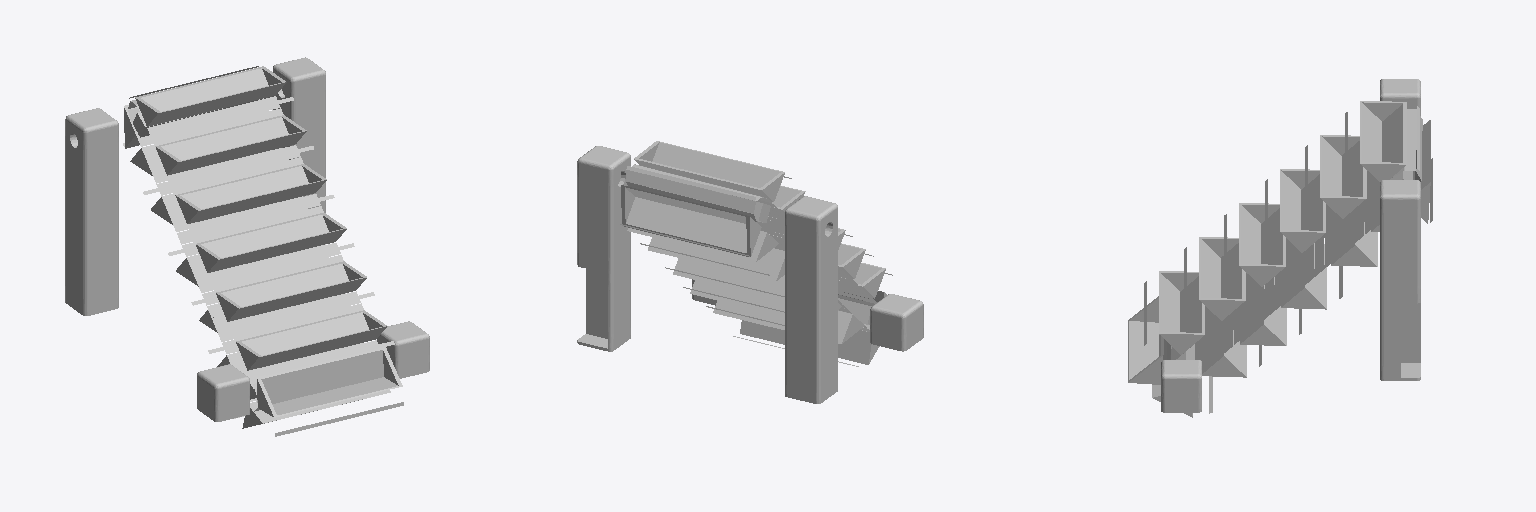
The model's file is cinta.obj.
3 renders of one model, left to right at view 1: azimuth 30°, elevation 25°; view 2: azimuth 150°, elevation 25°; view 3: azimuth 270°, elevation 25°, orthographic.
Bounding box in the file's own units: 68 × 67.97 × 74.22.